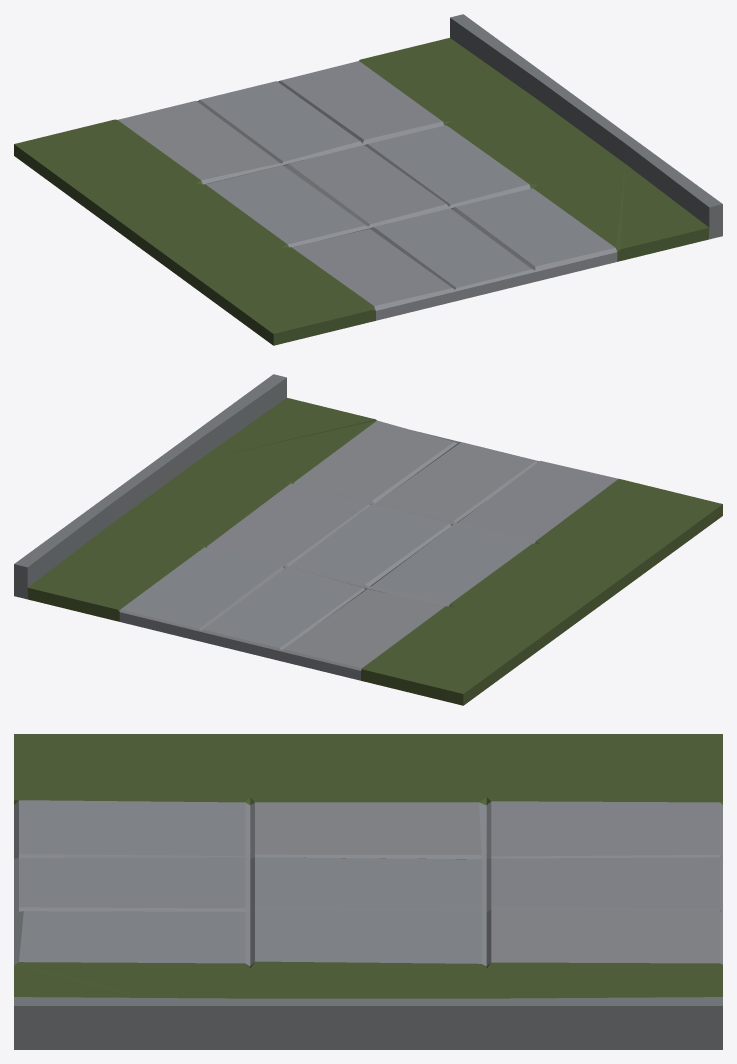
Rendered from Road_010-col.glb.
3 renders of one model, top to bottom at view 1: azimuth 30°, elevation 25°; view 2: azimuth 150°, elevation 25°; view 3: azimuth 270°, elevation 25°, orthographic. The views are drawn at different scales.
Parts seen in each view (by area): view 1: Sidewalk_01_C-col; view 2: Sidewalk_01_C-col; view 3: Sidewalk_01_C-col.
Part boxes in pixels (x1=…): Sidewalk_01_C-col: x1=14, y1=14, x2=722, y2=345; Sidewalk_01_C-col: x1=14, y1=374, x2=722, y2=705; Sidewalk_01_C-col: x1=14, y1=734, x2=722, y2=1049.
Size of the model in its own units: 2 by 0.1361 by 2.
Materials: 1 (1 with a texture image).
